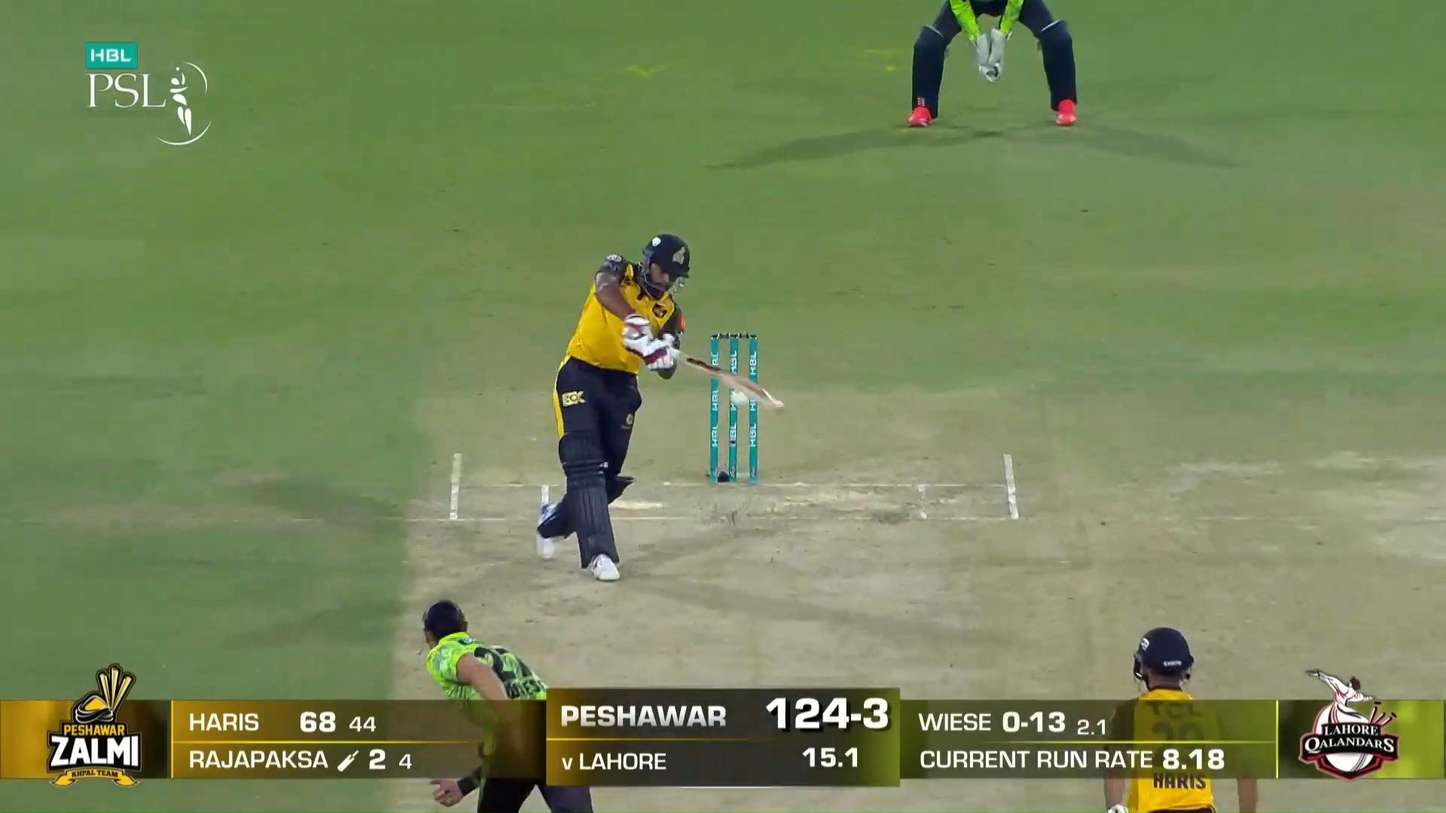batsman: (536, 232, 784, 581)
